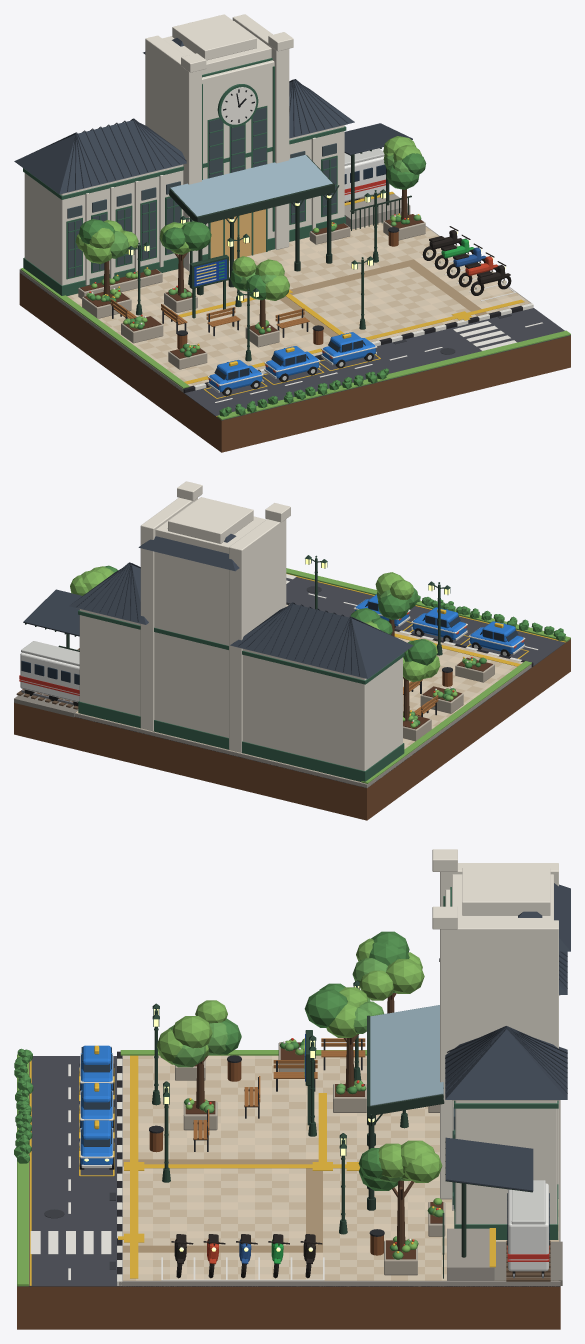
Rendered from lokasi5.glb.
3 renders of one model, top to bottom at view 1: azimuth 30°, elevation 25°; view 2: azimuth 150°, elevation 25°; view 3: azimuth 270°, elevation 25°, orthographic. The views are drawn at different scales.
Visible parts, largest first — view 1: Lokasi5; view 2: Lokasi5; view 3: Lokasi5.
Part boxes in pixels (x1,y1,x2,y2): Lokasi5: (14,14,570,452); Lokasi5: (14,481,570,820); Lokasi5: (14,849,570,1329).
Bounding box in the file's own units: 16.2 × 10.76 × 16.39.
